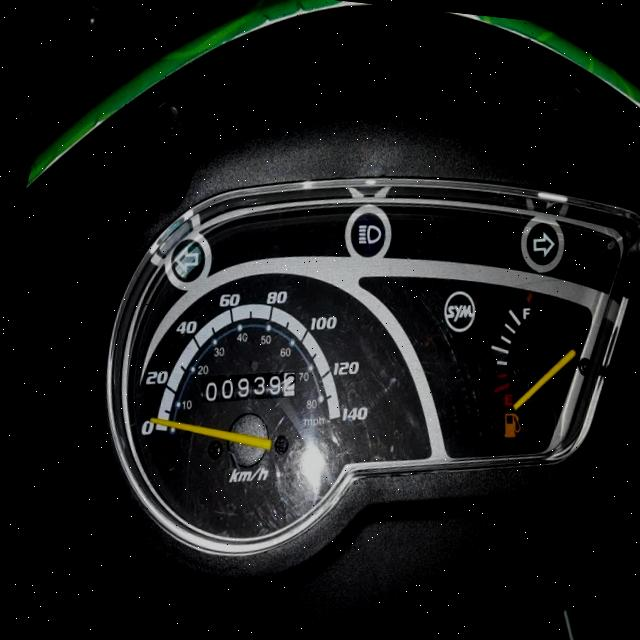odometer: (194, 359, 298, 413)
